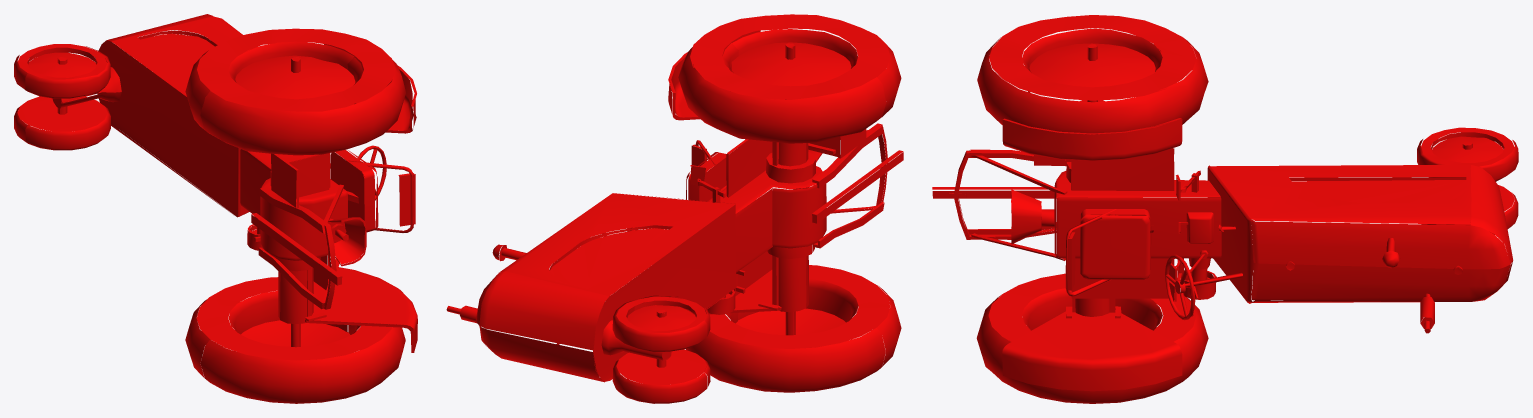
3 renders of one model, left to right at view 1: azimuth 30°, elevation 25°; view 2: azimuth 150°, elevation 25°; view 3: azimuth 270°, elevation 25°, orthographic. The views are drawn at different scales.
Visible parts, largest first — view 1: Renderer Node; view 2: Renderer Node; view 3: Renderer Node.
Boxes of the visible parts, x1,y1,x2,y2 form: Renderer Node: (14, 14, 417, 403); Renderer Node: (446, 14, 903, 403); Renderer Node: (932, 15, 1518, 403).
Size of the model in its own units: 1.13 by 1.23 by 2.01.
Materials: 1 (1 with a texture image).
